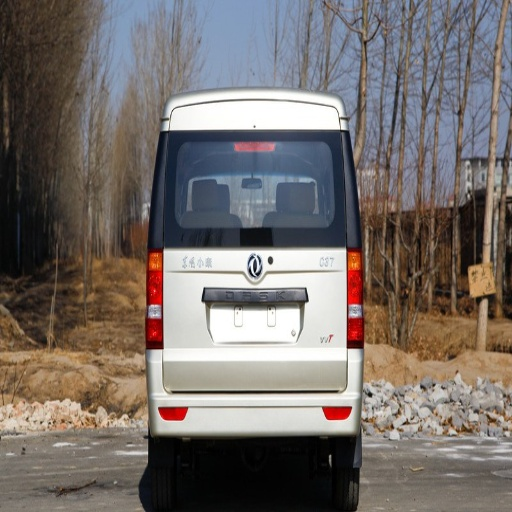back_bumper: (146, 351, 356, 436)
tailgate: (161, 232, 342, 342)
trunk: (152, 249, 348, 391)
